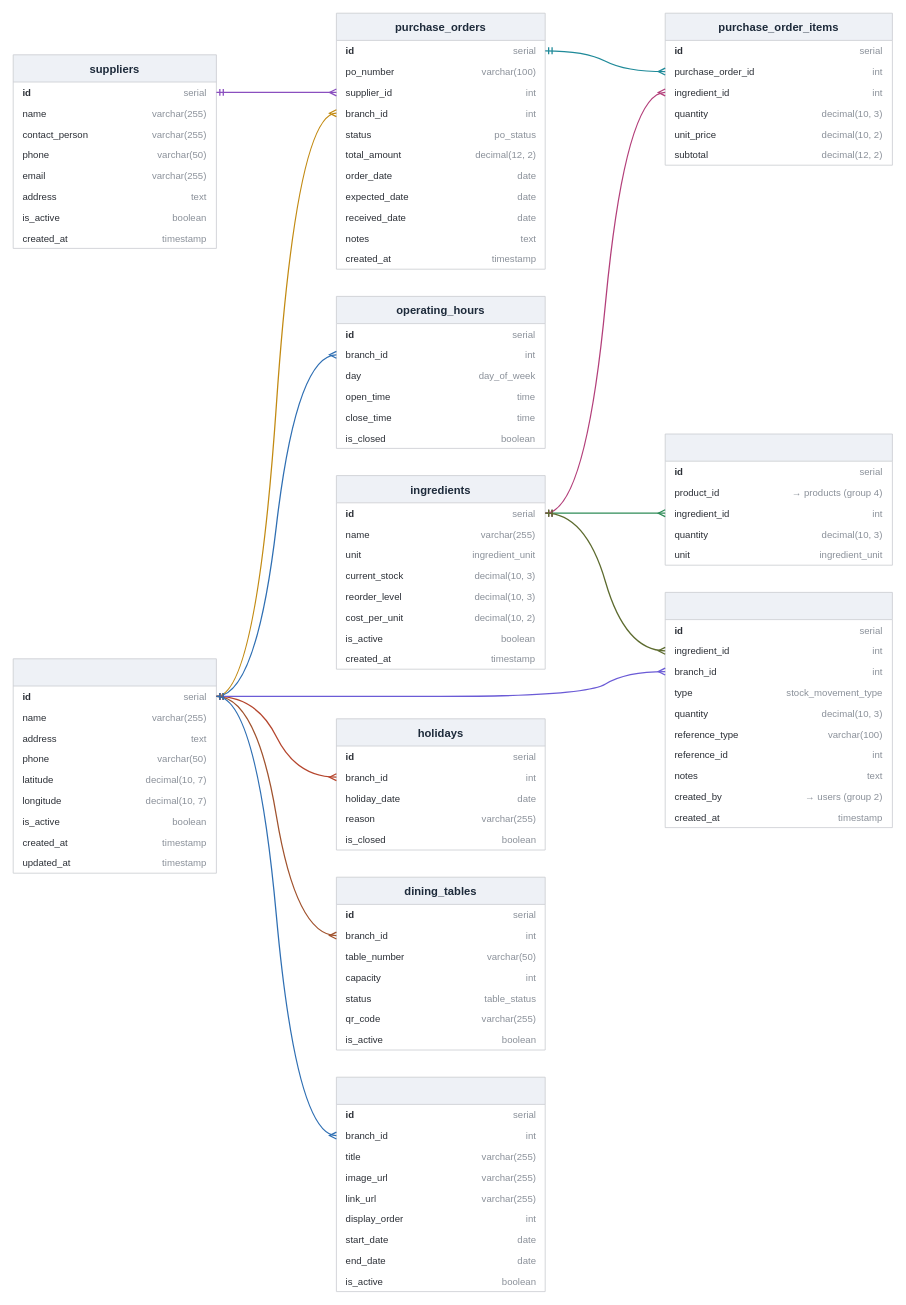
The diagram is 906 pixels wide and 1305 high, and some of its shapes have lost their labels. Here are the shapes that lost their labels. From the top down, the box of each, then its label:
(664, 433, 892, 565): product_ingredients
(664, 592, 892, 828): stock_movements
(12, 658, 216, 873): branches
(336, 1076, 545, 1292): banners
